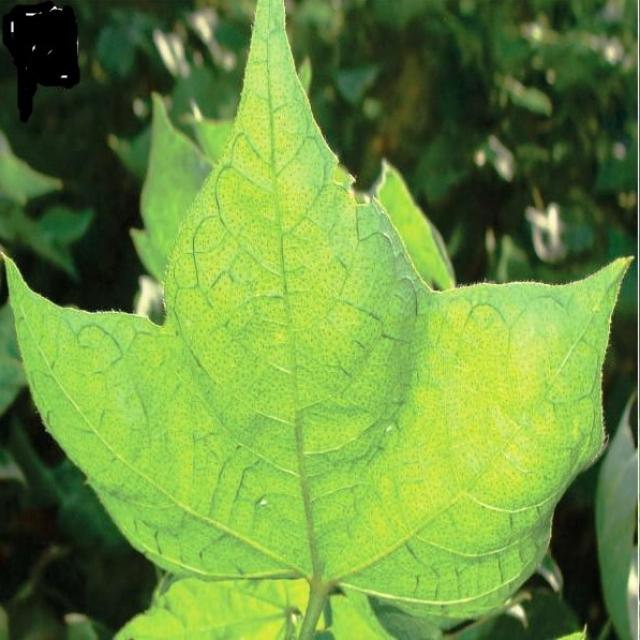Leaf Curl Virus: (125, 174, 559, 617)
